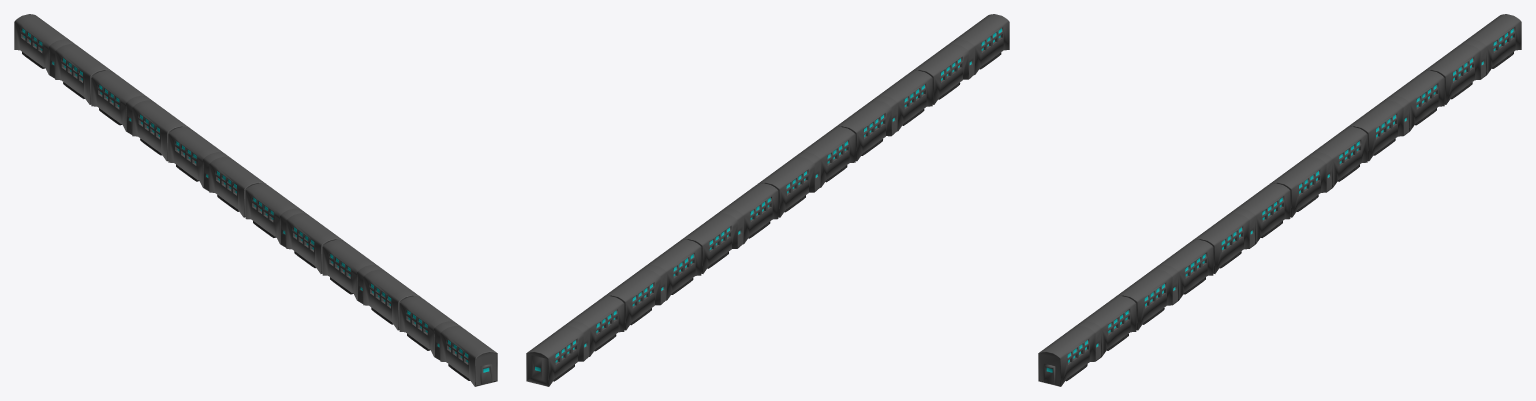
File: Final_taraincars.fbx
3 renders of one model, left to right at view 1: azimuth 30°, elevation 25°; view 2: azimuth 150°, elevation 25°; view 3: azimuth 330°, elevation 25°, orthographic.
Visible parts, largest first — view 1: Traincar_s_; view 2: Traincar_s_; view 3: Traincar_s_.
Boxes of the visible parts, <box> form: Traincar_s_: <box>14,14,497,386</box>; Traincar_s_: <box>526,14,1009,386</box>; Traincar_s_: <box>1038,14,1521,386</box>.
Size of the model in its own units: 4.43 by 6.02 by 156.
